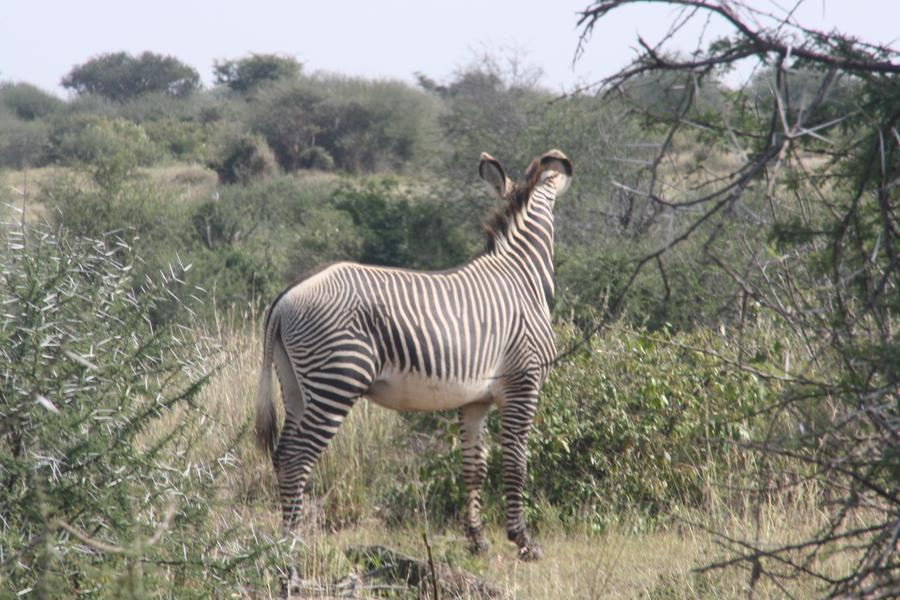zebra_grevys: (267, 248, 545, 390)
